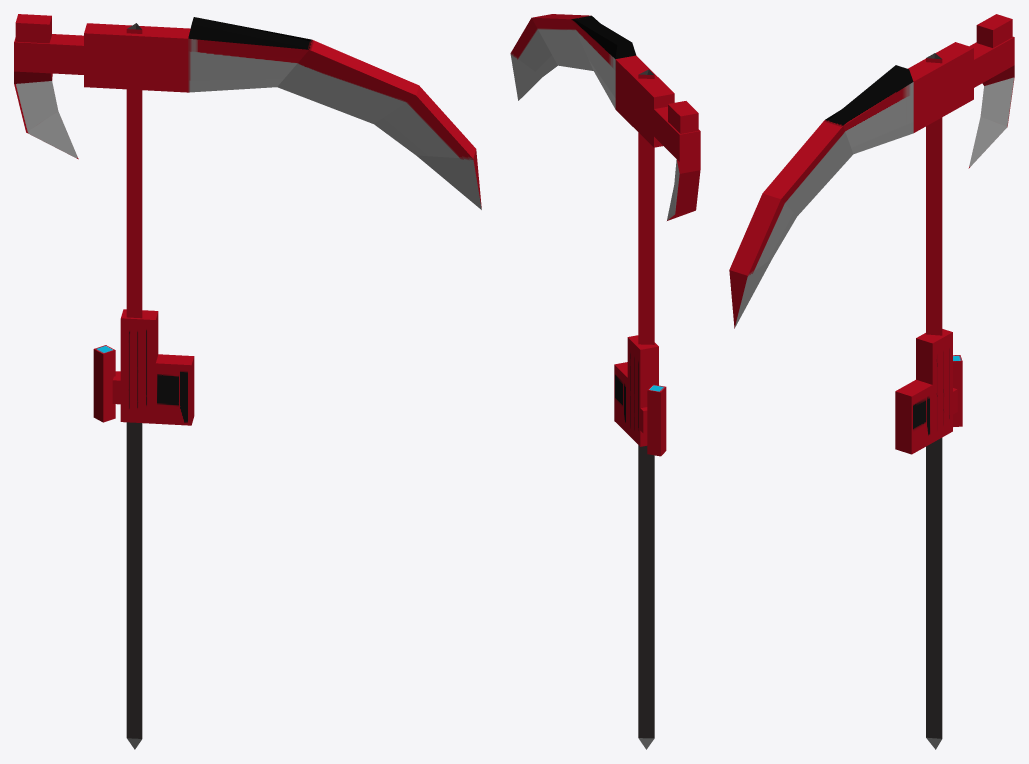
The model's file is crstrose.fbx.
The picture shows the model from 3 angles, left to right: view 1: azimuth 30°, elevation 25°; view 2: azimuth 150°, elevation 25°; view 3: azimuth 270°, elevation 25°; orthographic projection. The views are drawn at different scales.
Visible parts, largest first — view 1: Cylinder.003; view 2: Cylinder.003; view 3: Cylinder.003.
Part boxes in pixels (x1=…): Cylinder.003: x1=14, y1=14, x2=481, y2=749; Cylinder.003: x1=510, y1=14, x2=700, y2=749; Cylinder.003: x1=729, y1=14, x2=1014, y2=749.
Size of the model in its own units: 89.54 by 188 by 69.4.
